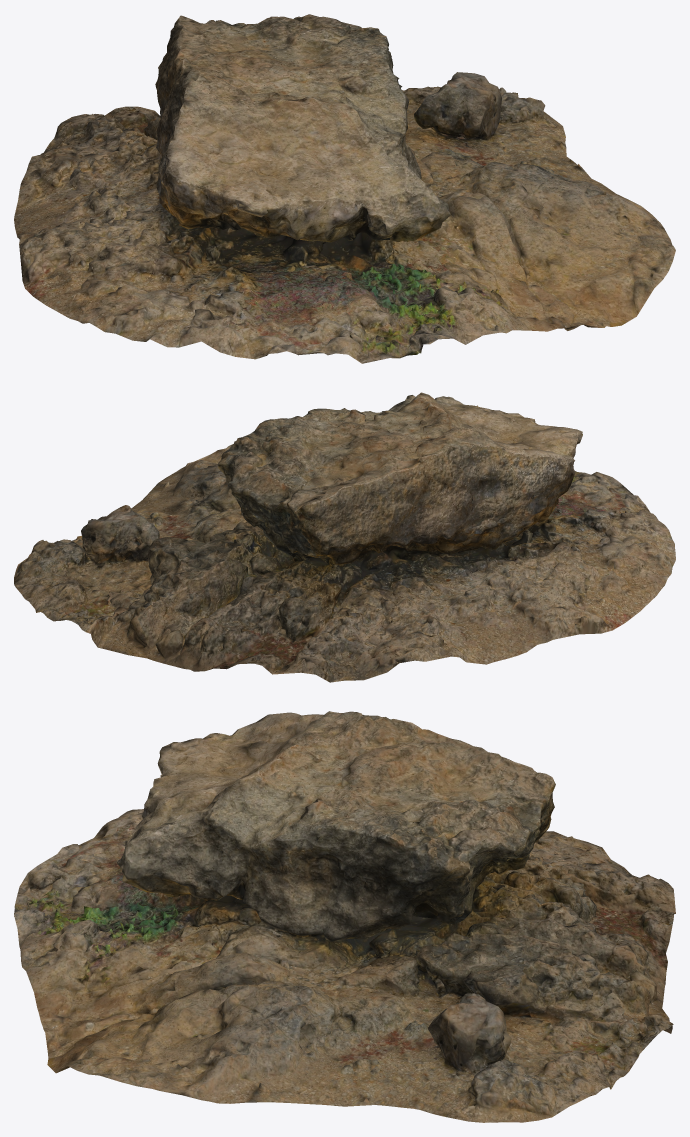
File: coast_rocks_05_web.gltf
The picture shows the model from 3 angles, top to bottom: view 1: azimuth 30°, elevation 25°; view 2: azimuth 150°, elevation 25°; view 3: azimuth 270°, elevation 25°; orthographic projection. The views are drawn at different scales.
Parts seen in each view (by area): view 1: coast_rocks_05; view 2: coast_rocks_05; view 3: coast_rocks_05.
Boxes of the visible parts, x1,y1,x2,y2 form: coast_rocks_05: (14, 14, 675, 363); coast_rocks_05: (14, 392, 675, 682); coast_rocks_05: (14, 711, 675, 1122).
Bounding box in the file's own units: 4.03 × 1.33 × 3.75.
1 material, 1 textured.
